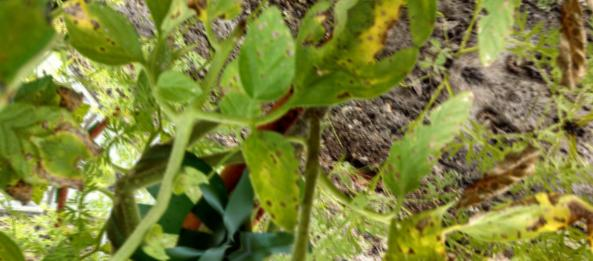Tomato Septoria leaf spot: (373, 74, 482, 211), (453, 155, 590, 261), (218, 117, 332, 234), (217, 0, 325, 115), (344, 182, 487, 261), (41, 0, 161, 83), (104, 0, 213, 39), (150, 0, 264, 37)
